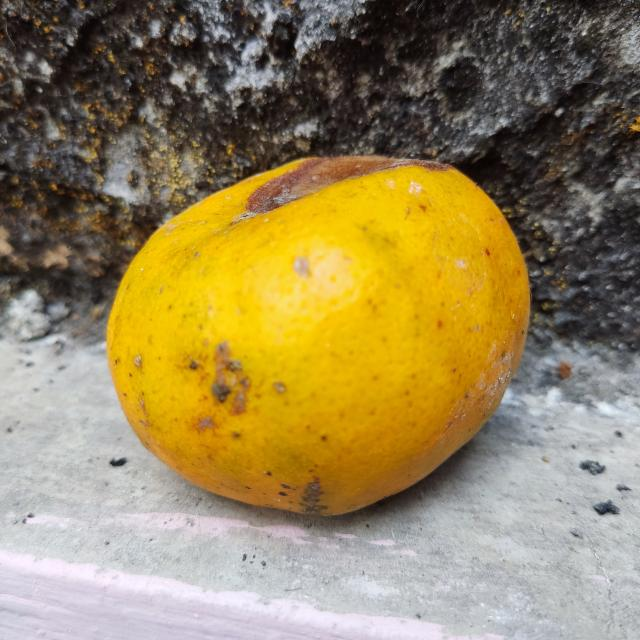orange: (105, 152, 533, 516)
